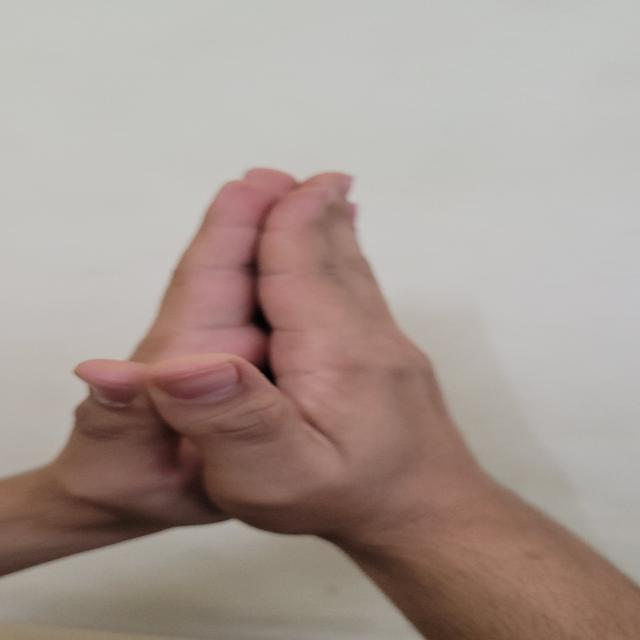Thank You: (19, 136, 518, 586)
